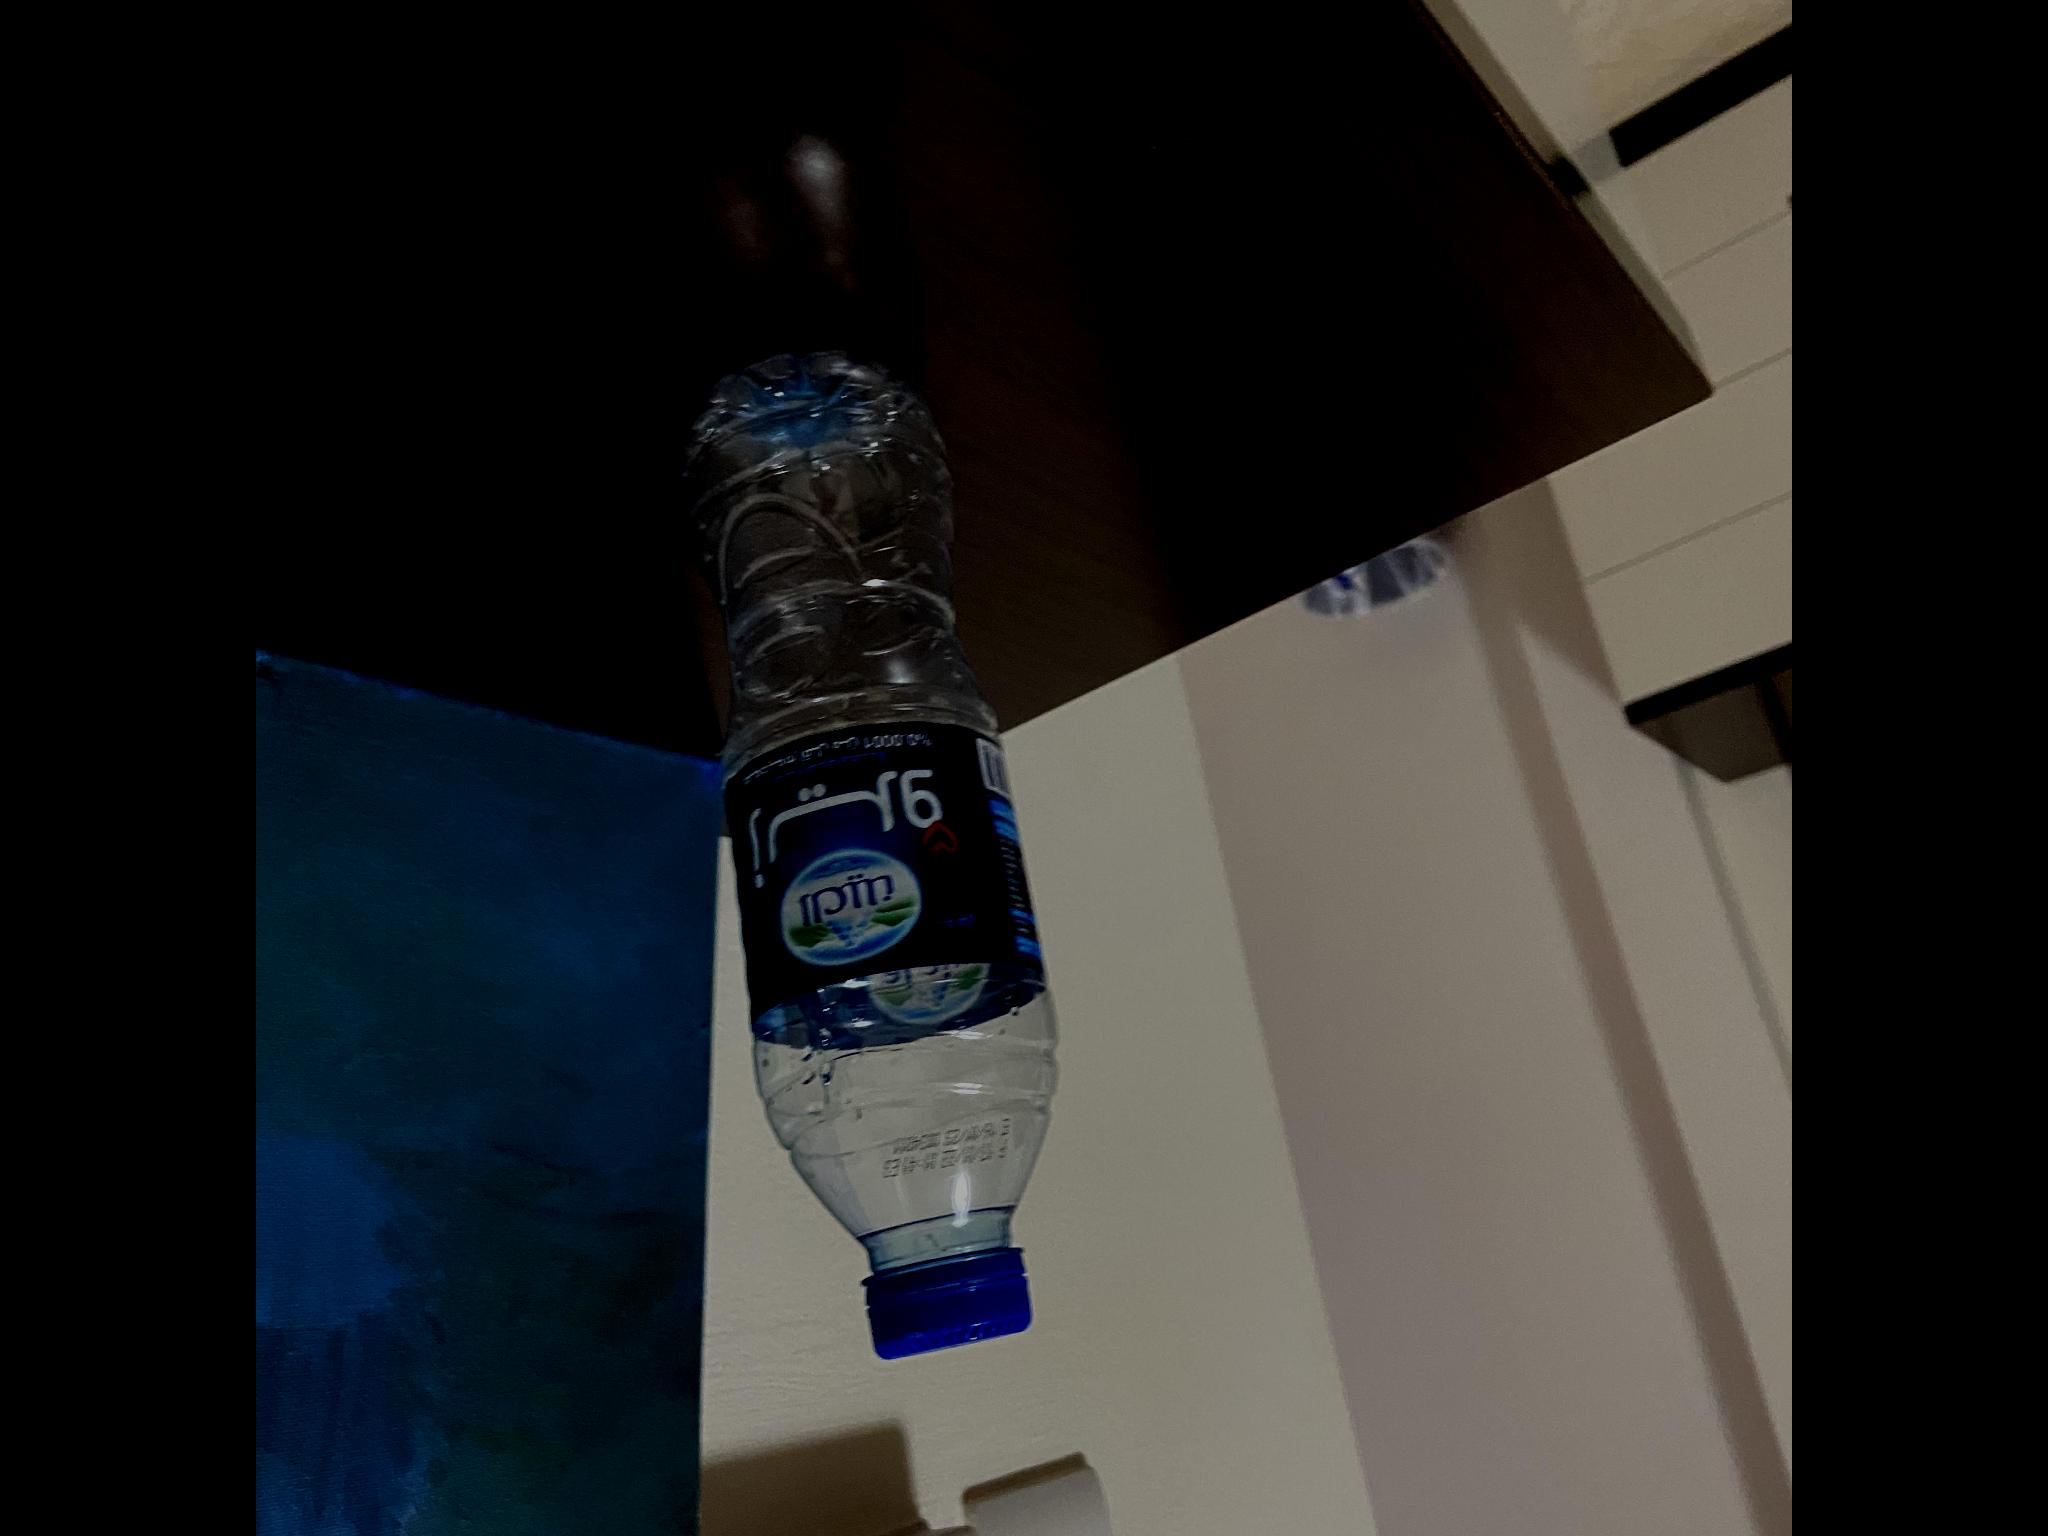bottle: (658, 268, 1071, 1368)
